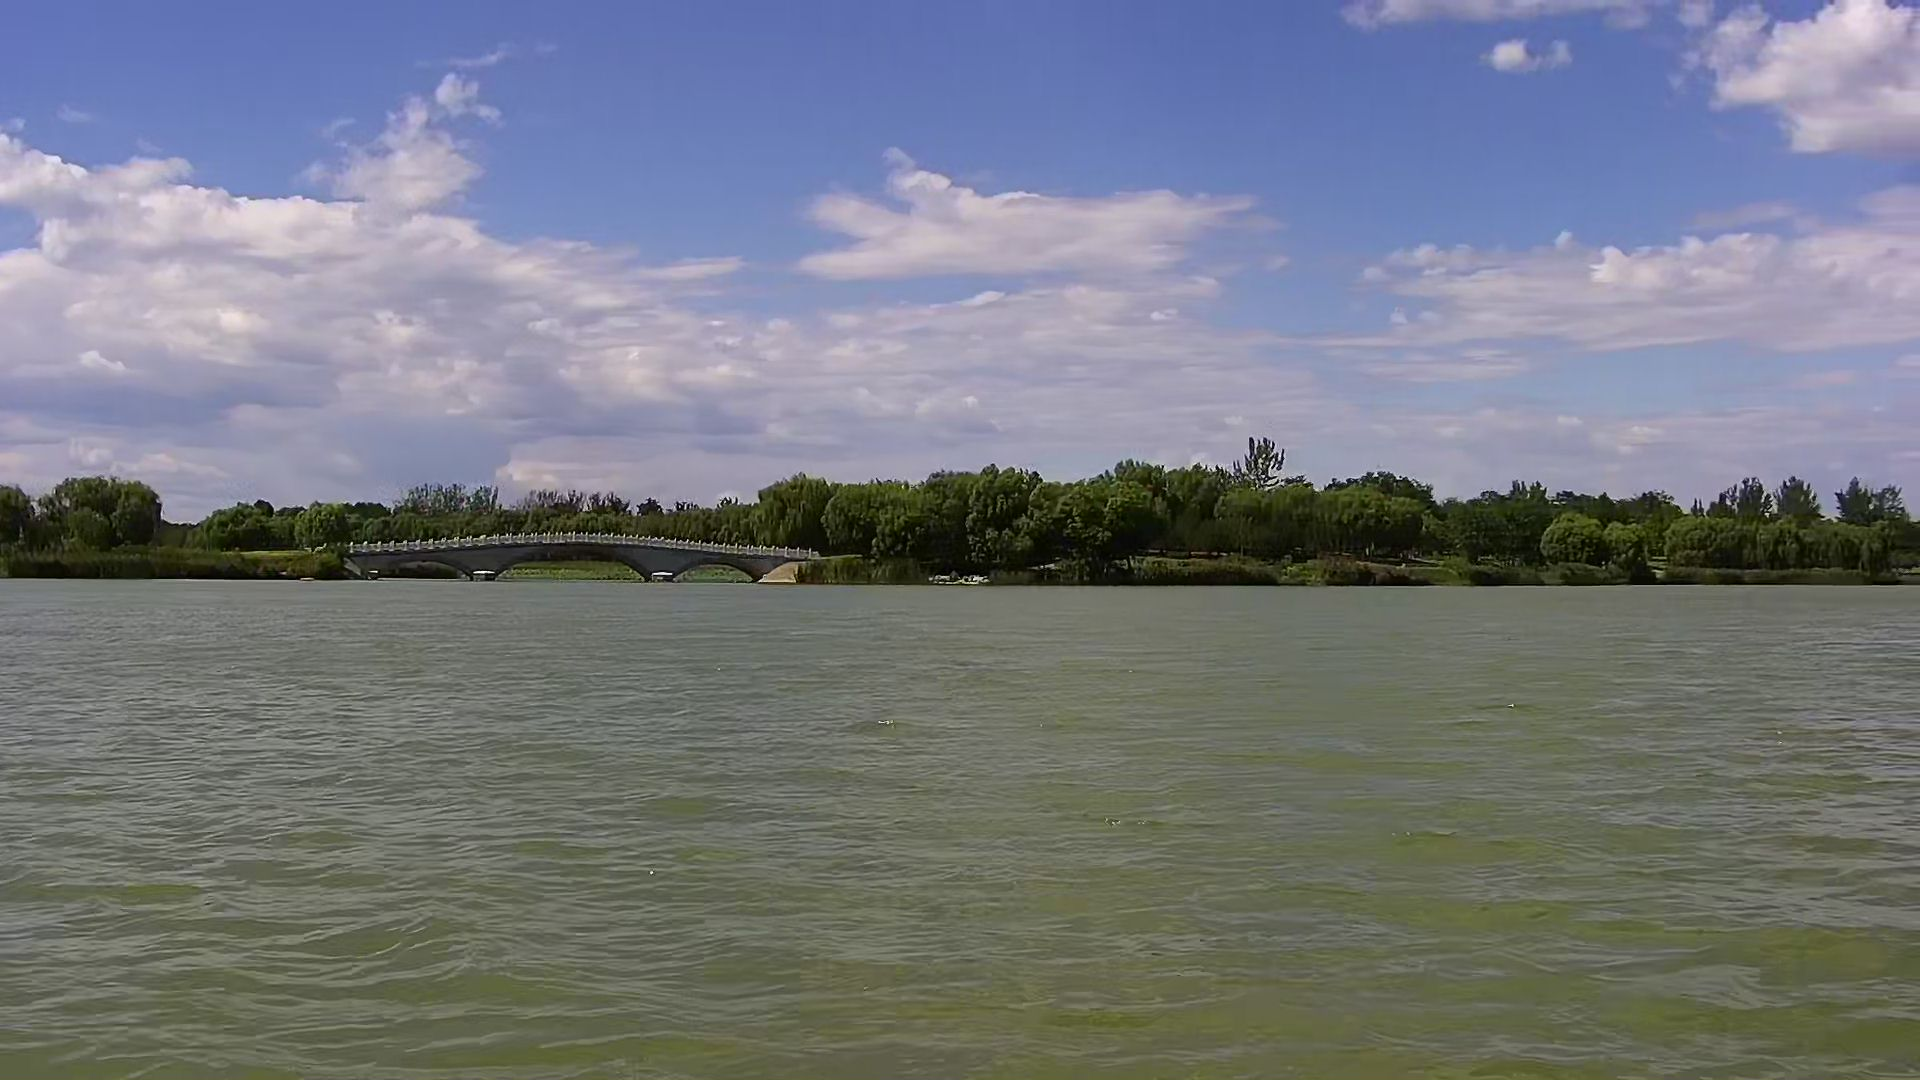bridge: (331, 524, 816, 585)
